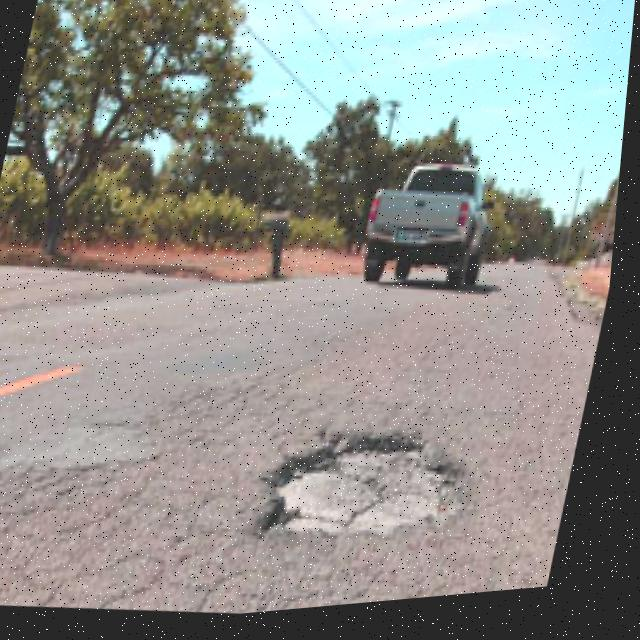Pothole: (242, 374, 488, 609)
